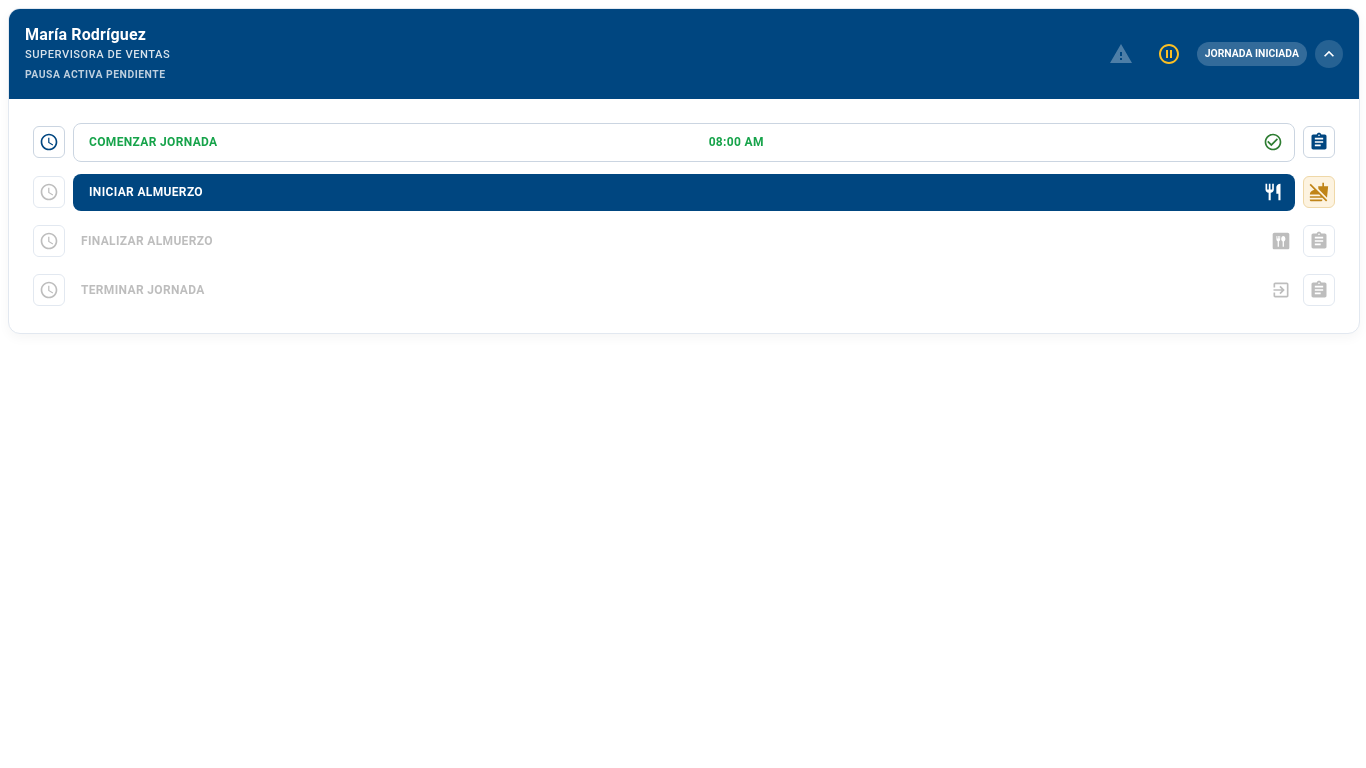
Test: EmployeeCard › opens ObservacionModal when an observable slot button is clicked
The image size is (1366, 768).
Step 1. Click the button with test id "AssignmentIcon" → (1319, 142), box [1303, 126, 1335, 158]
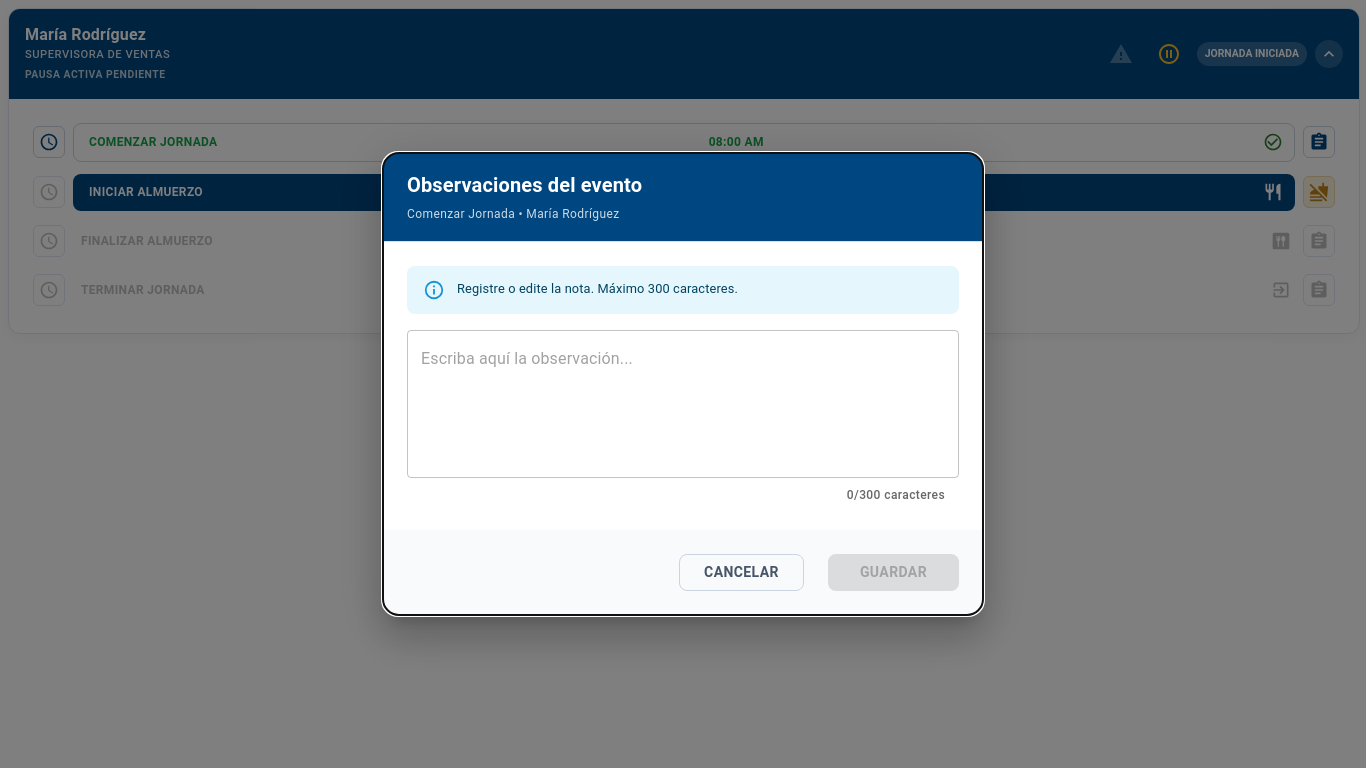
Now the text "Observaciones del evento" is shown, box [407, 173, 642, 197]
